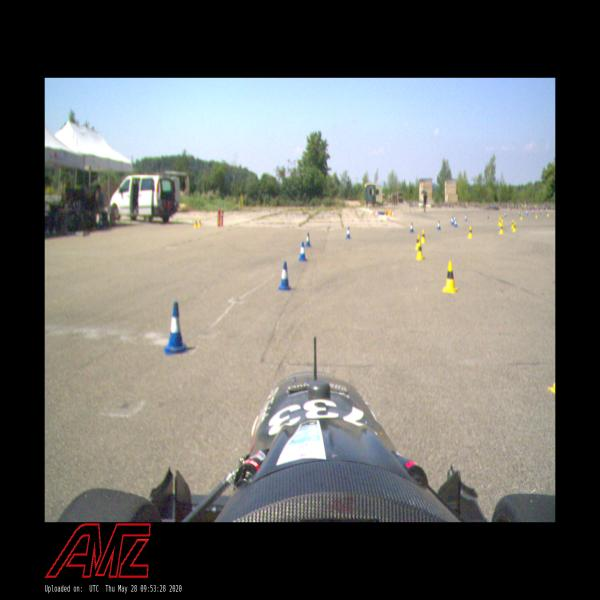blue_cone: (162, 302, 188, 354), (279, 260, 290, 292), (299, 242, 307, 262), (305, 233, 311, 247), (409, 222, 414, 232), (346, 227, 350, 239), (437, 220, 441, 230), (454, 218, 457, 228), (451, 216, 454, 224), (504, 211, 507, 217), (465, 215, 467, 221), (526, 210, 528, 216)
yellow_cone: (442, 260, 458, 294), (416, 241, 424, 260), (415, 234, 421, 250), (421, 228, 426, 243), (499, 222, 504, 235), (468, 226, 473, 238), (193, 218, 198, 229), (512, 222, 516, 232), (498, 216, 501, 226), (198, 218, 201, 227), (512, 218, 514, 228), (535, 212, 538, 218), (520, 213, 522, 220), (501, 216, 503, 222)
